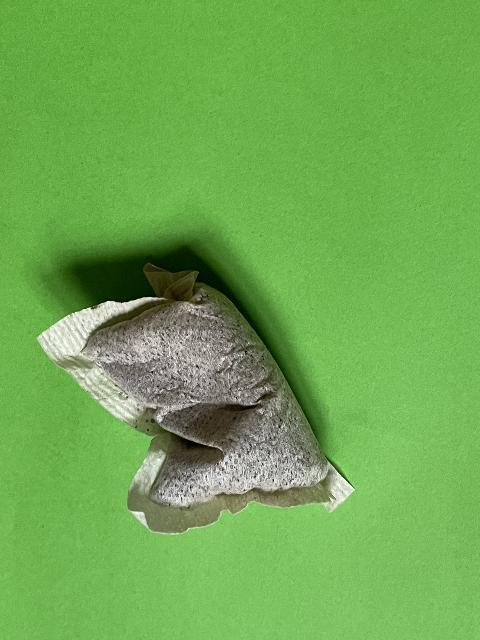teabag: (33, 260, 356, 538)
